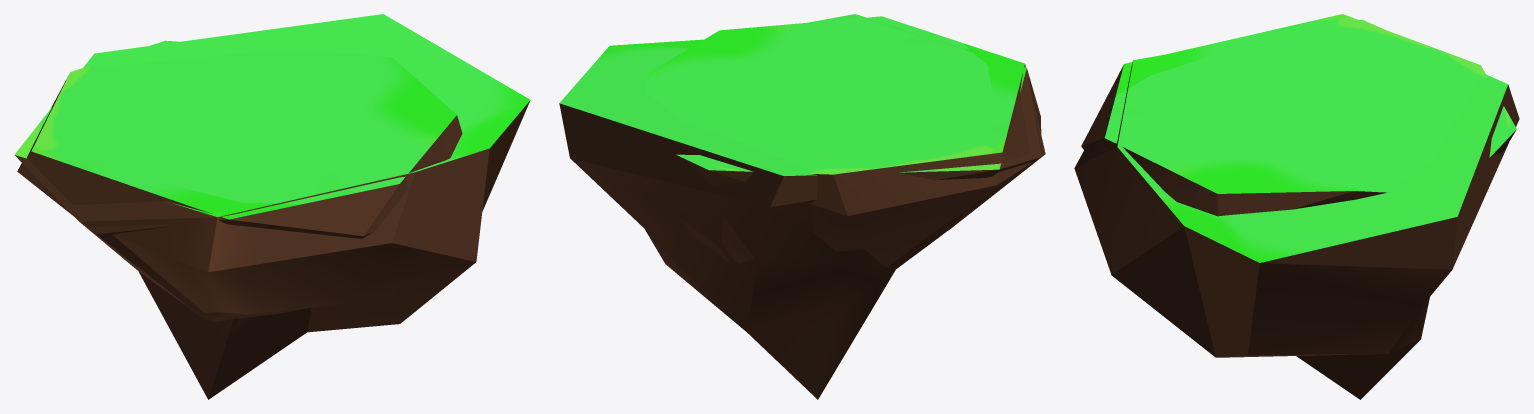
Rendered from islandTest2.fbx.
The picture shows the model from 3 angles, left to right: view 1: azimuth 30°, elevation 25°; view 2: azimuth 150°, elevation 25°; view 3: azimuth 270°, elevation 25°; orthographic projection. The views are drawn at different scales.
Visible parts, largest first — view 1: Cylinder.001, Cylinder; view 2: Cylinder.001, Cylinder; view 3: Cylinder, Cylinder.001.
Boxes of the visible parts, x1=… form: Cylinder.001: x1=17, y1=40, x2=462, y2=321; Cylinder: x1=14, y1=14, x2=530, y2=399; Cylinder.001: x1=644, y1=16, x2=1045, y2=267; Cylinder: x1=559, y1=14, x2=1041, y2=399; Cylinder: x1=1074, y1=19, x2=1519, y2=399; Cylinder.001: x1=1081, y1=14, x2=1516, y2=216.
Size of the model in its own units: 3893 by 2418 by 3279.
2 materials, 2 textured.
